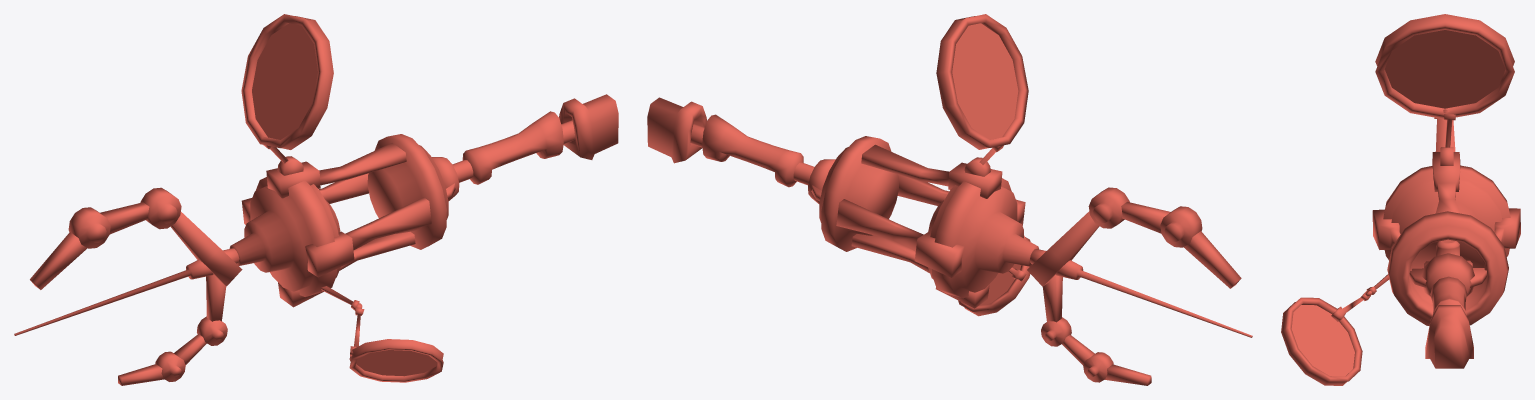
Rendered from medic_p2.fbx.
The picture shows the model from 3 angles, left to right: view 1: azimuth 30°, elevation 25°; view 2: azimuth 150°, elevation 25°; view 3: azimuth 270°, elevation 25°; orthographic projection.
Parts seen in each view (by area): view 1: 13_low; view 2: 13_low; view 3: 13_low.
Boxes of the visible parts, x1,y1,x2,y2 form: 13_low: (14,14,618,385); 13_low: (647,14,1252,385); 13_low: (1281,14,1520,385).
Size of the model in its own units: 124 by 67.7 by 42.45.
